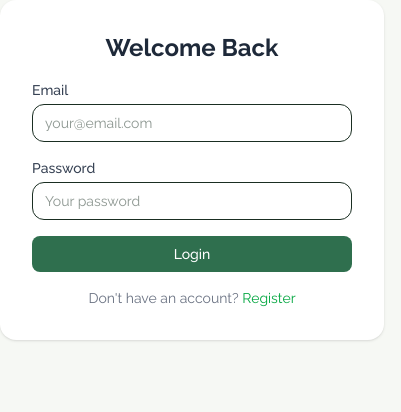
LoginForm › shows error when submitting empty form
The width and height of the screenshot is (401, 412).
Click the button "Login" at (192, 254), box [32,236,352,272]
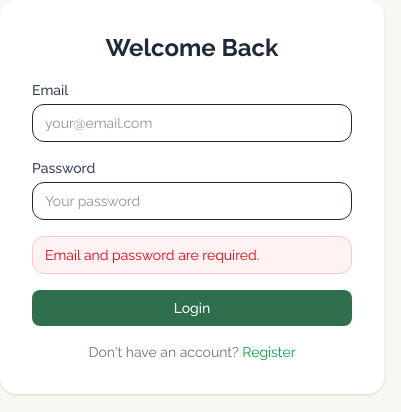
Now the text "Email and password are required." is shown, box [32,236,352,274]
